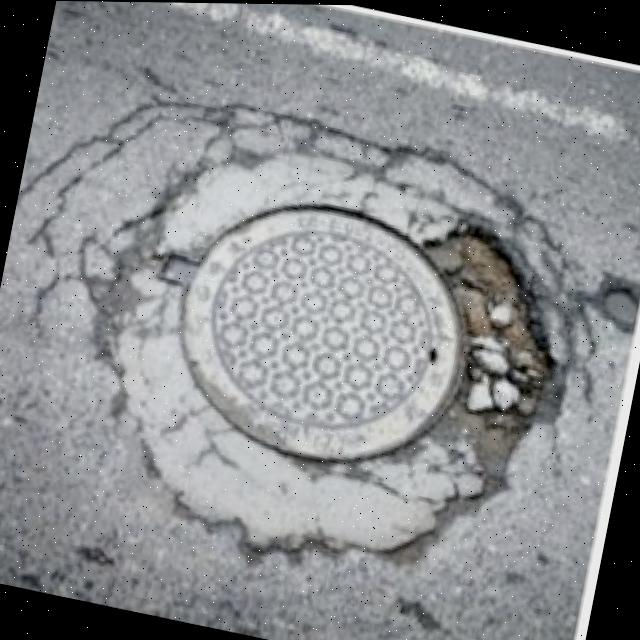manhole: (121, 135, 590, 511)
